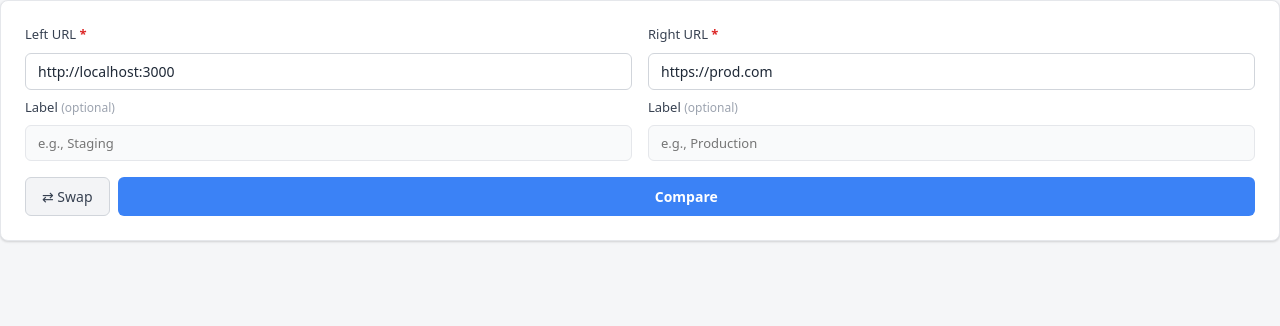
Scenario: ControlPlane › warning is dismissible via X button
This screenshot has width=1280, height=326.
Click the button "Compare" at (686, 196), box [118,177,1255,216]
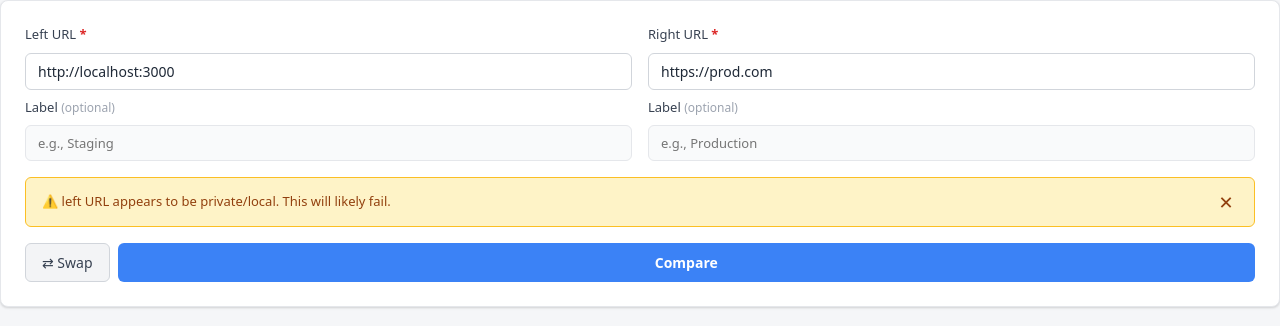
Expected: the text "left URL appears to be private" is shown, [62,192,276,210]
Click the button titled "Dismiss warning" at (1226, 202), box [1214,190,1238,214]
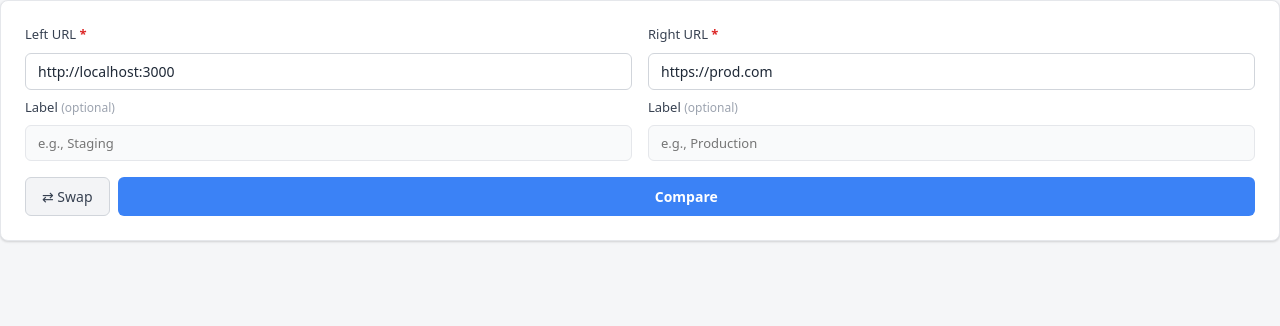
Expected: the text "left URL appears to be private" is gone
